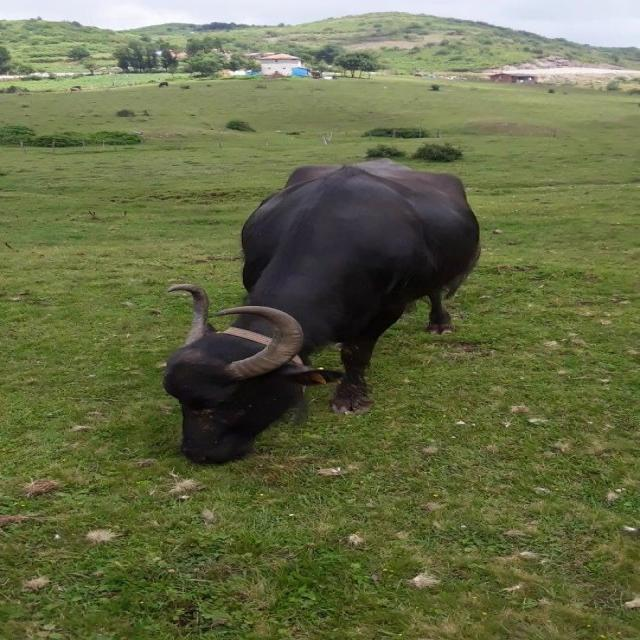Buffalo: (160, 157, 481, 465)
